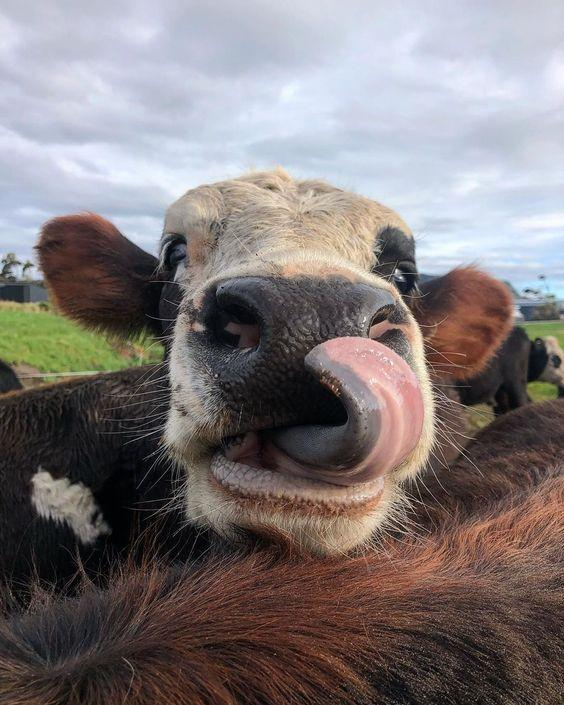cow: (42, 114, 506, 600)
